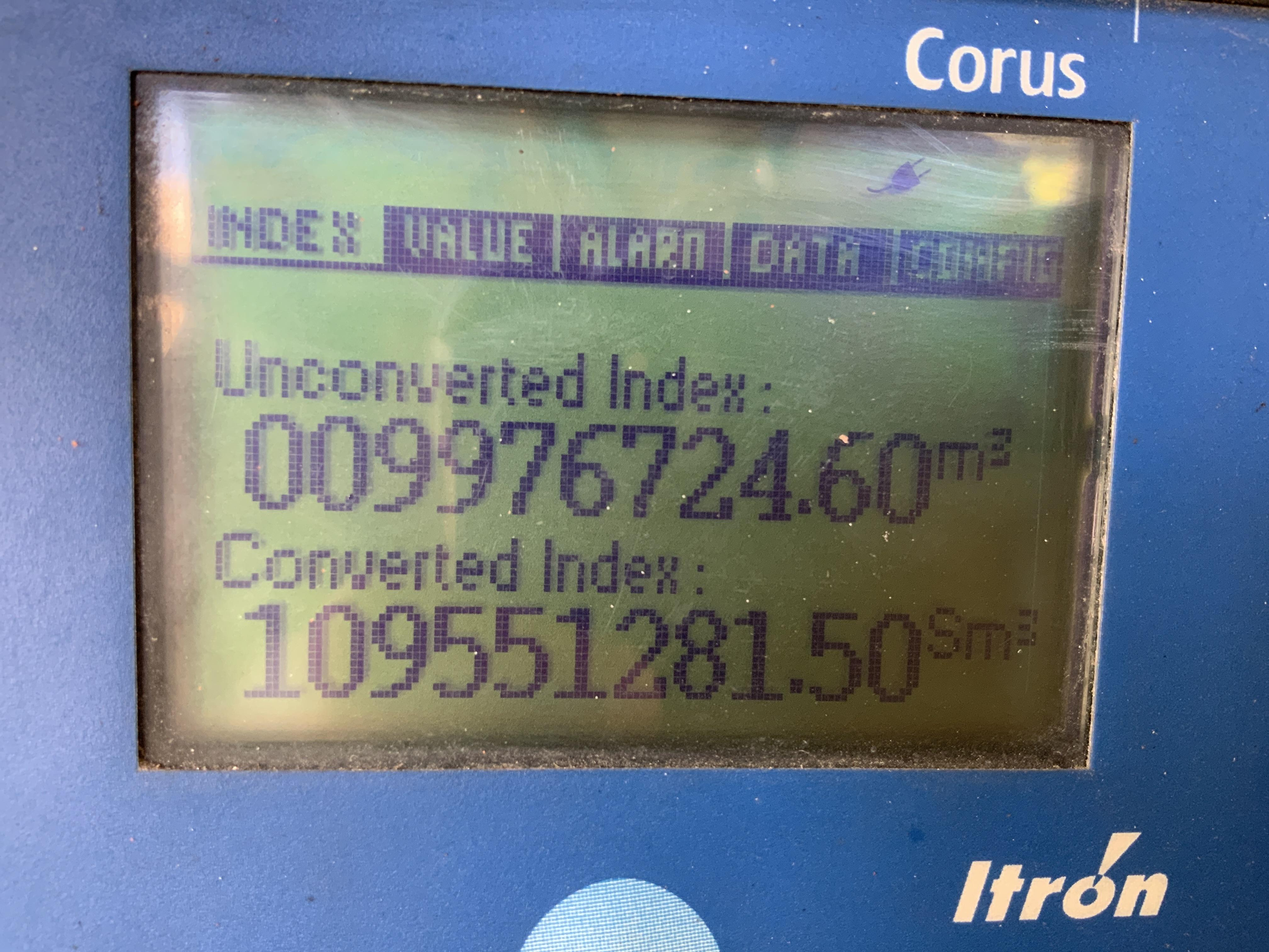digital_screen: (128, 71, 1132, 769)
